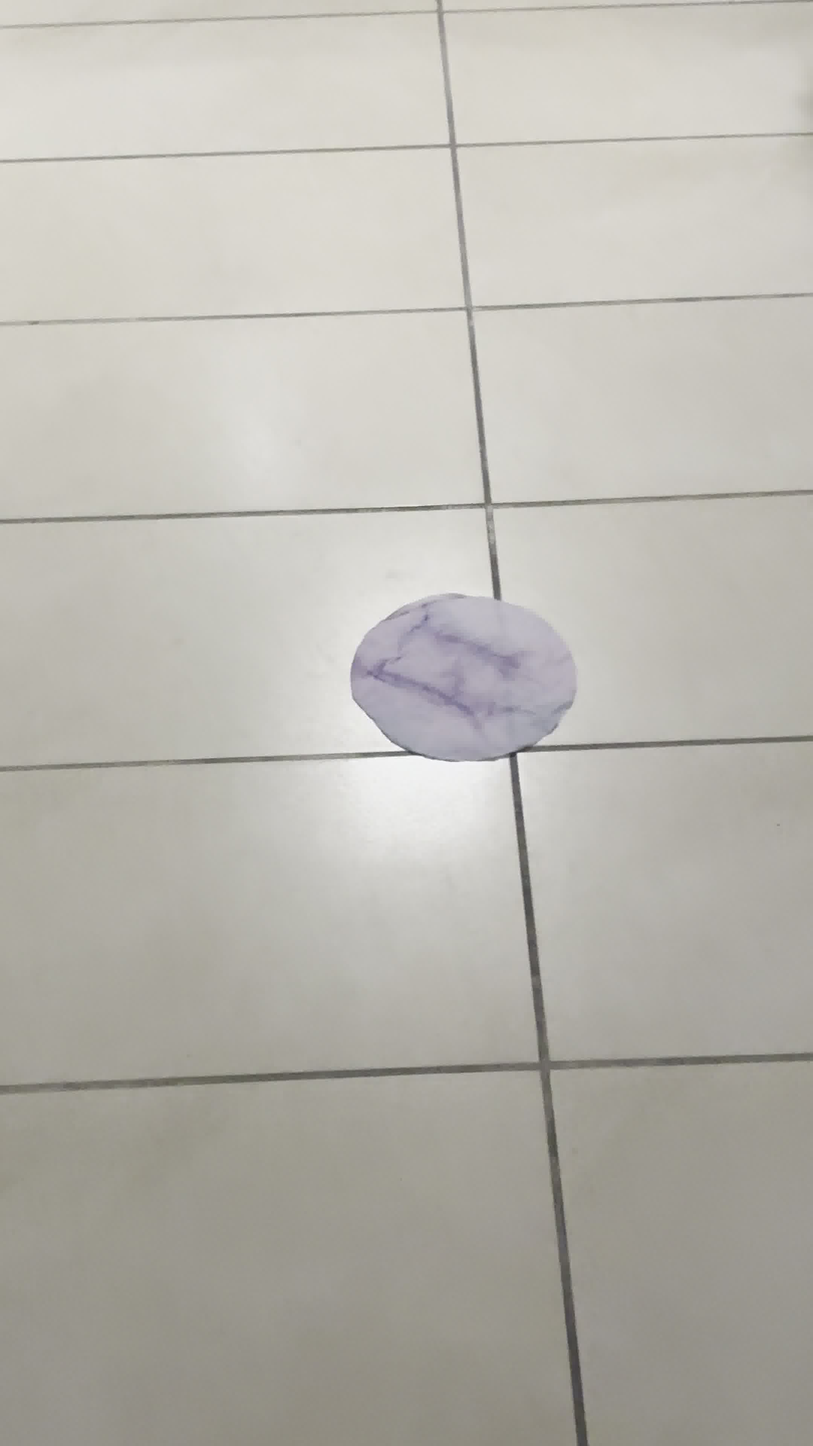Target: (347, 599, 575, 761)
